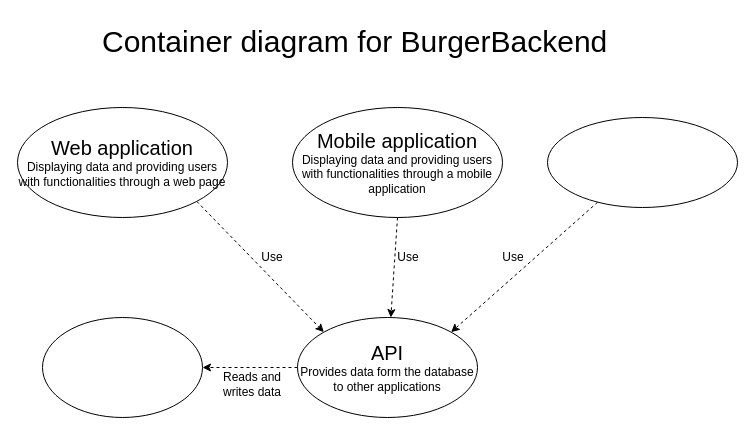
Image size: 755x435. Some labels were removed from this diagram. The box of each missing label's shape, as (x1, y1, x2, y2) in pixels:
Database Stores all data used in the API: (42, 316, 202, 418)
Potential other applications: (546, 116, 738, 208)
